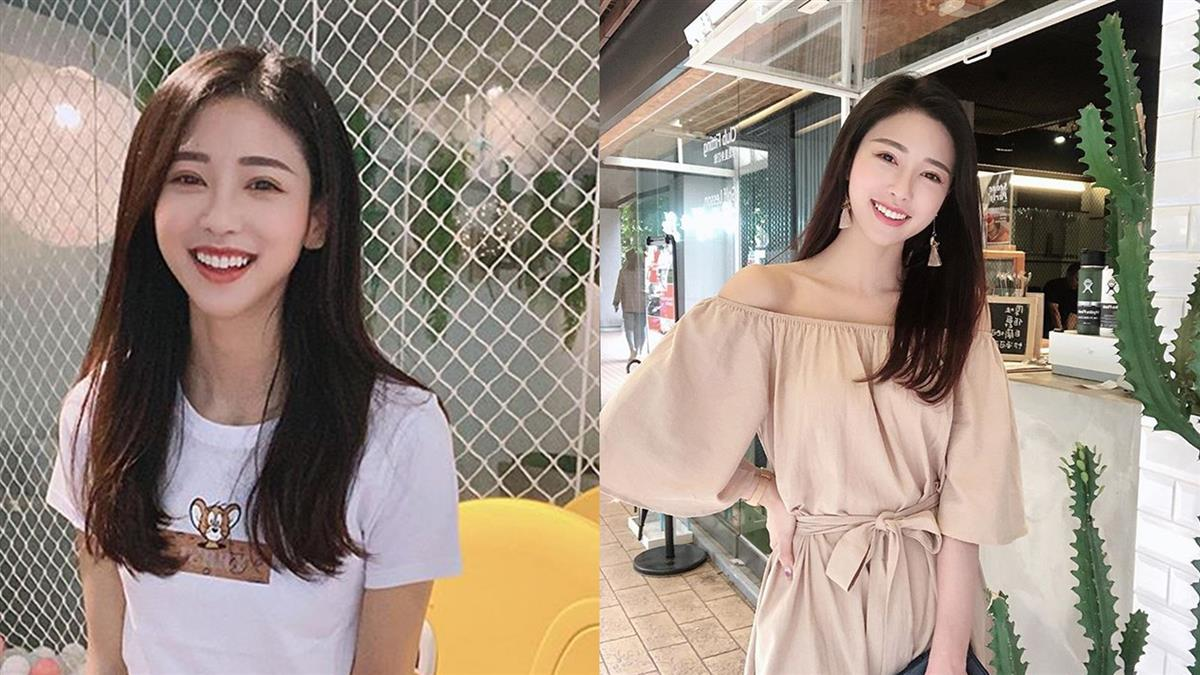people: (56, 52, 456, 675), (617, 75, 1011, 675)
